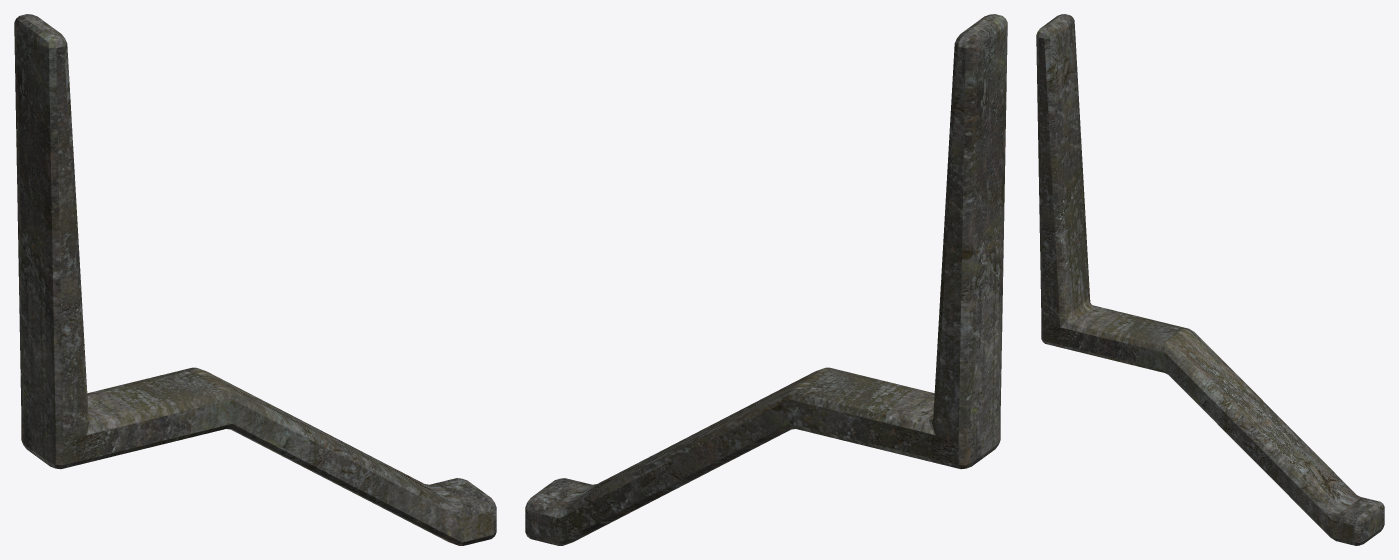
File: room 3a roof deco.fbx
3 views of the same model, side by side, from view 1: azimuth 30°, elevation 25°; view 2: azimuth 150°, elevation 25°; view 3: azimuth 330°, elevation 25° (orthographic). The views are drawn at different scales.
Parts seen in each view (by area): view 1: Cube.107; view 2: Cube.107; view 3: Cube.107.
Boxes of the visible parts, bbox=[...] form: Cube.107: bbox=[14, 14, 496, 545]; Cube.107: bbox=[525, 14, 1007, 545]; Cube.107: bbox=[1036, 14, 1384, 545].
Bounding box in the file's own units: 616 × 792 × 91.78.
